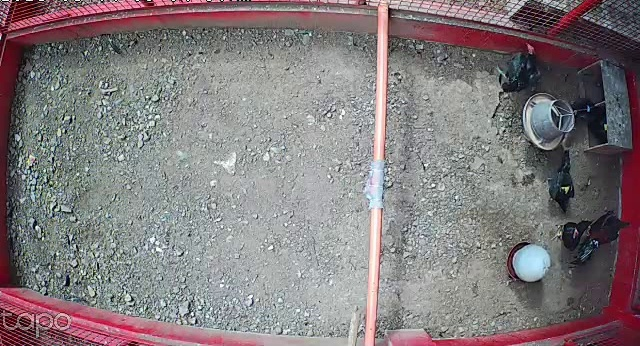Chicken: (494, 42, 546, 98), (543, 144, 580, 217), (547, 217, 596, 251), (565, 89, 602, 123)
Rooster: (570, 208, 630, 271)
Saddle_Color_Blue: (587, 103, 591, 113)
Saddle_Color_Yellow: (561, 184, 571, 194)
